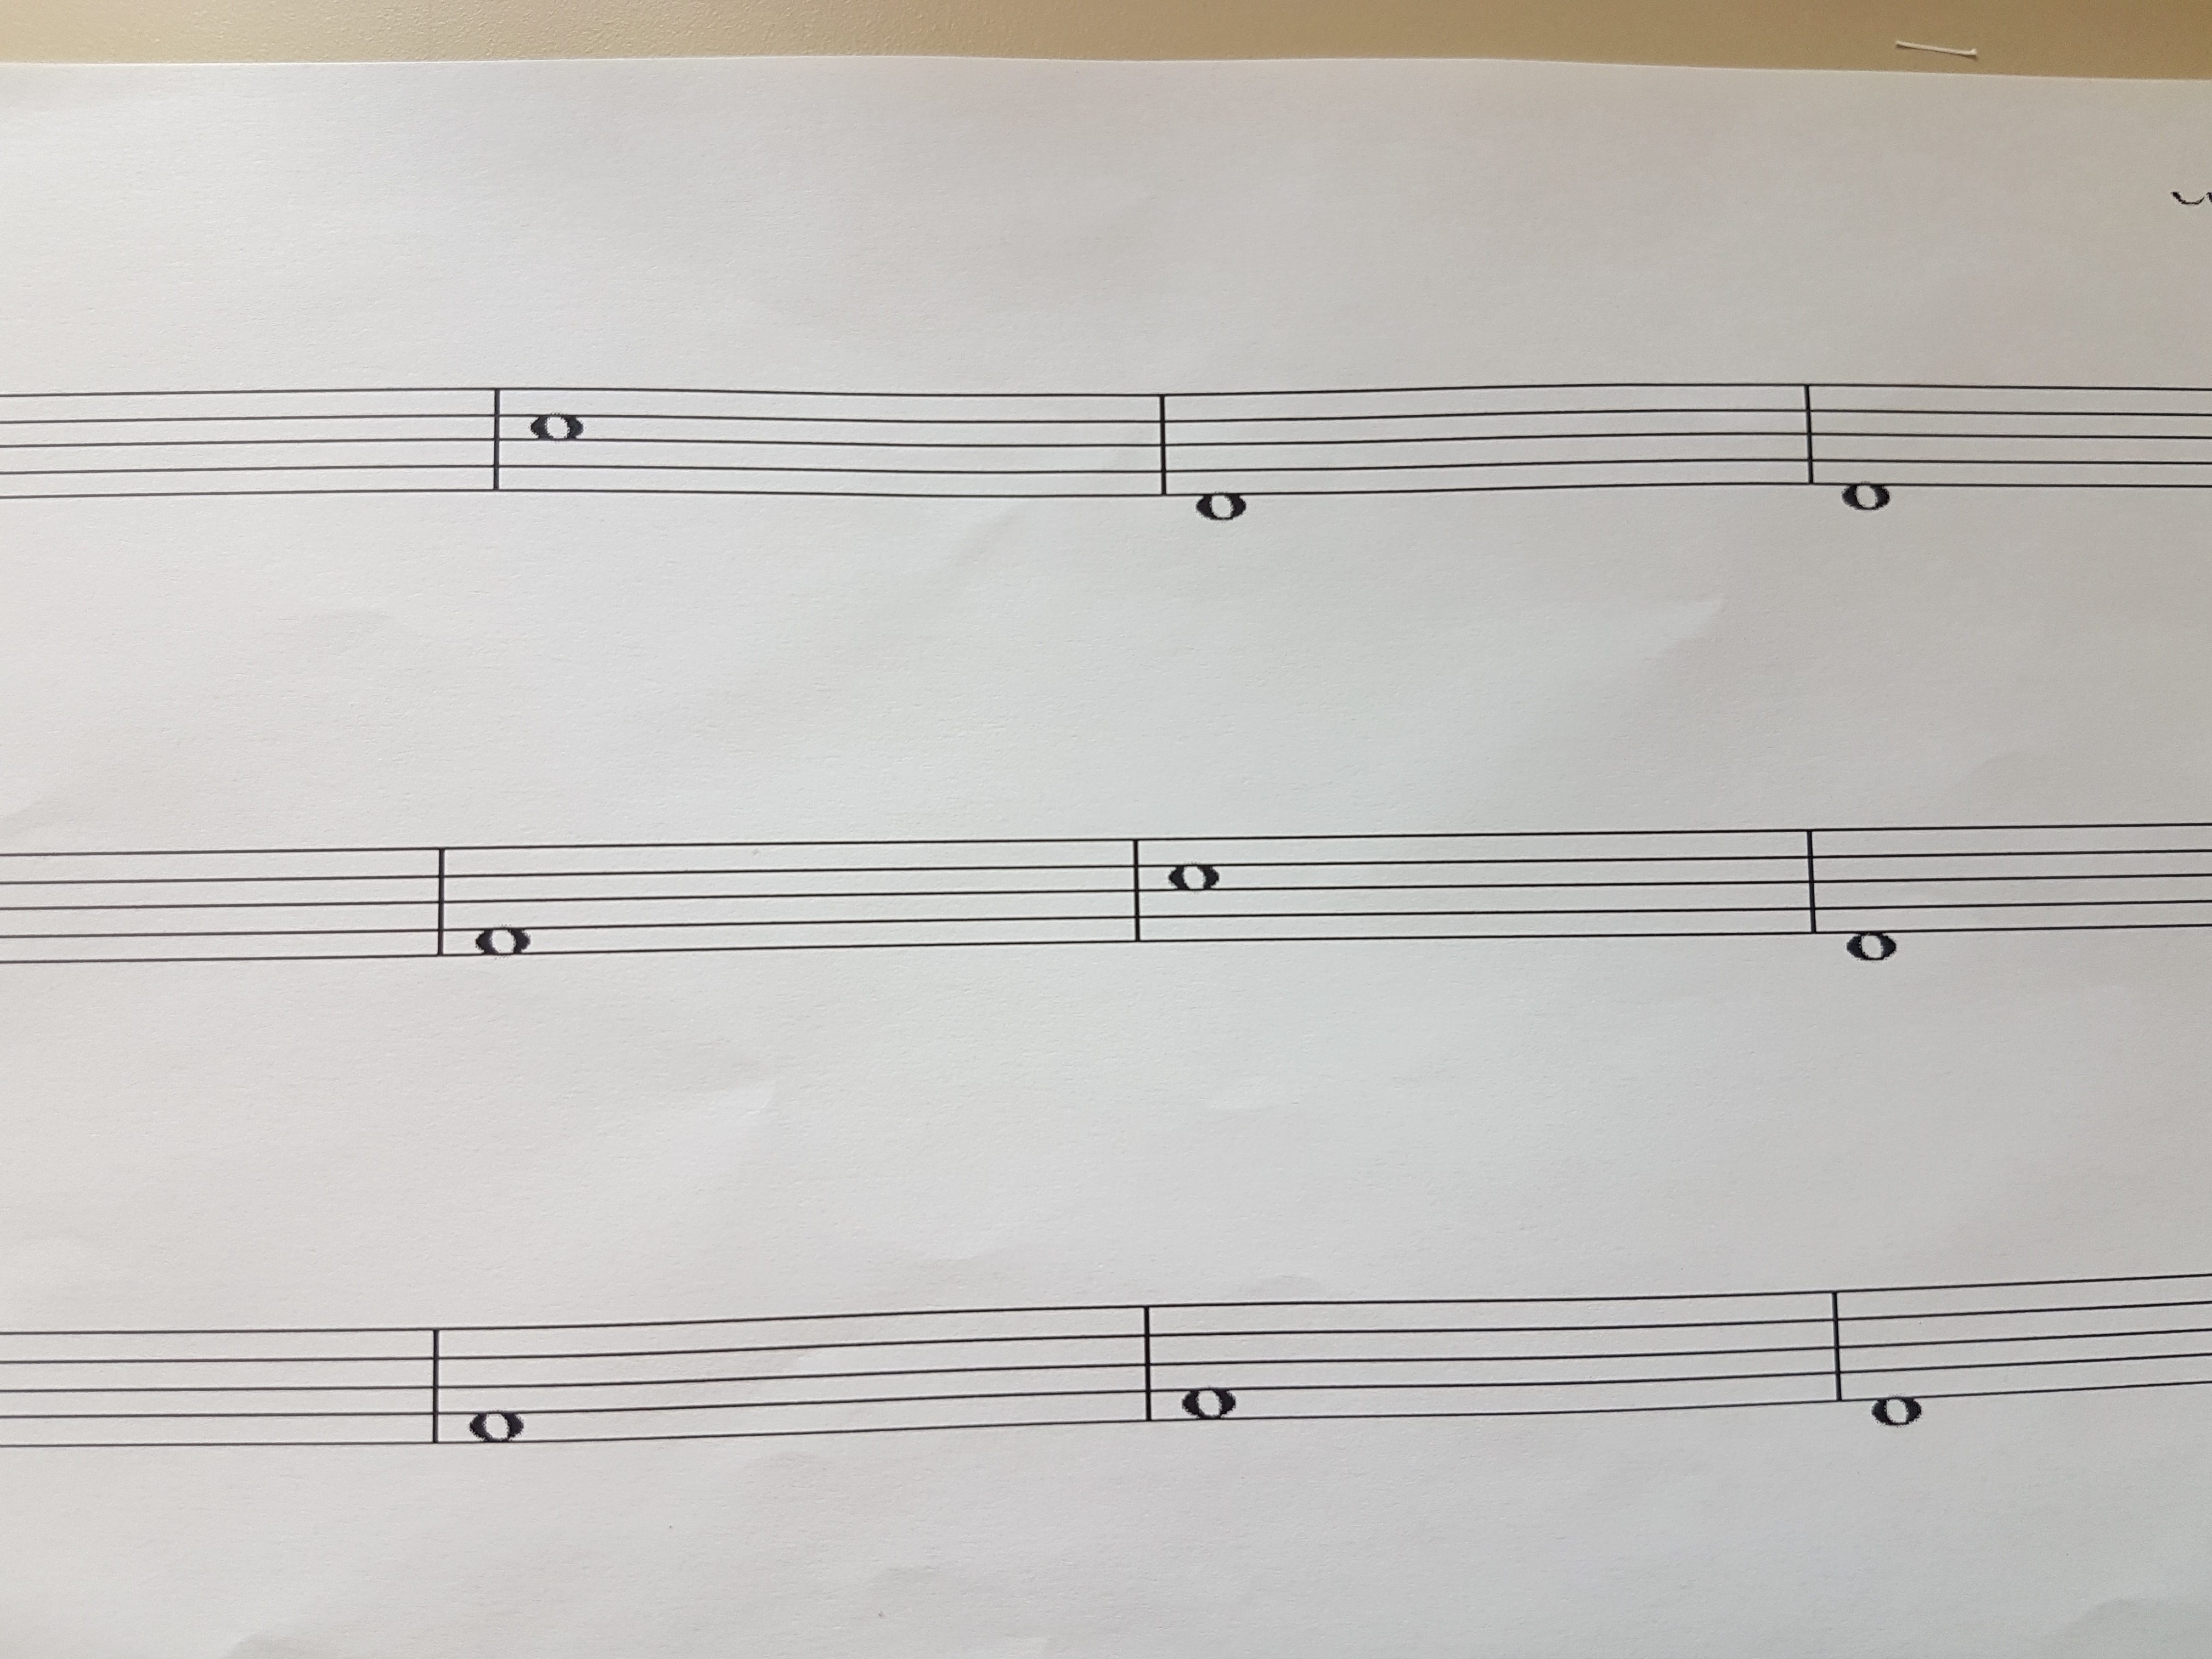pipe: (1129, 1284, 1165, 1439), (423, 828, 456, 974), (420, 1312, 451, 1462), (1820, 1274, 1851, 1422), (1146, 373, 1177, 518), (481, 371, 512, 512), (1122, 824, 1155, 955), (1796, 812, 1825, 951), (1794, 368, 1824, 502)
semibreve_c: (523, 354, 590, 521), (1162, 807, 1226, 967)
semibreve_d: (1860, 1260, 1935, 1450), (1836, 805, 1902, 985), (1834, 359, 1897, 542), (1191, 369, 1252, 544)
semibreve_f: (463, 1293, 531, 1469), (1177, 1269, 1244, 1446), (470, 816, 538, 979)
